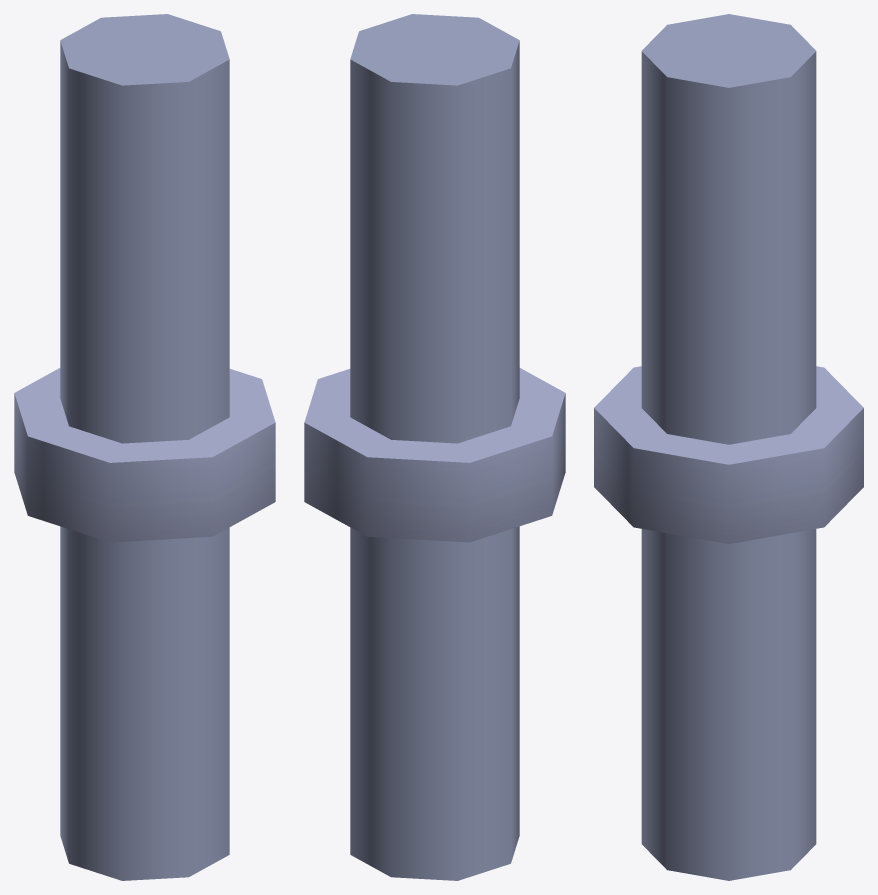
Rendered from kenney-building-gutter-vertical-short.glb.
3 views of the same model, side by side, from view 1: azimuth 30°, elevation 25°; view 2: azimuth 150°, elevation 25°; view 3: azimuth 270°, elevation 25° (orthographic).
Visible parts, largest first — view 1: gutter-vertical-short; view 2: gutter-vertical-short; view 3: gutter-vertical-short.
Part boxes in pixels (x1,y1,x2,y2): gutter-vertical-short: [14, 14, 275, 880]; gutter-vertical-short: [304, 14, 565, 880]; gutter-vertical-short: [594, 14, 863, 880].
Bounding box in the file's own units: 0.3083 × 1 × 0.3083.
1 material, 1 textured.
